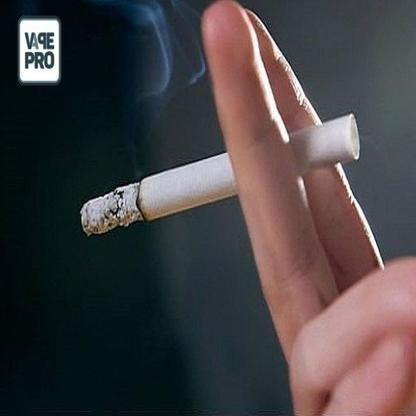trash: (74, 106, 365, 242)
